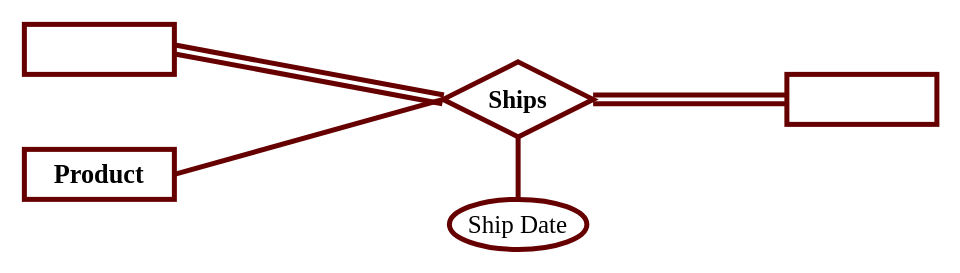
Some shapes in this 960 by 273 pixel diagram are drawn without their labels. The shapes that lost their labels are listed below. From the top down, each one's centre as x and y in pixels, then its label:
point (98, 48): Shipper
point (861, 98): Customer
